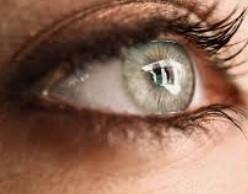eye: (121, 41, 196, 115)
